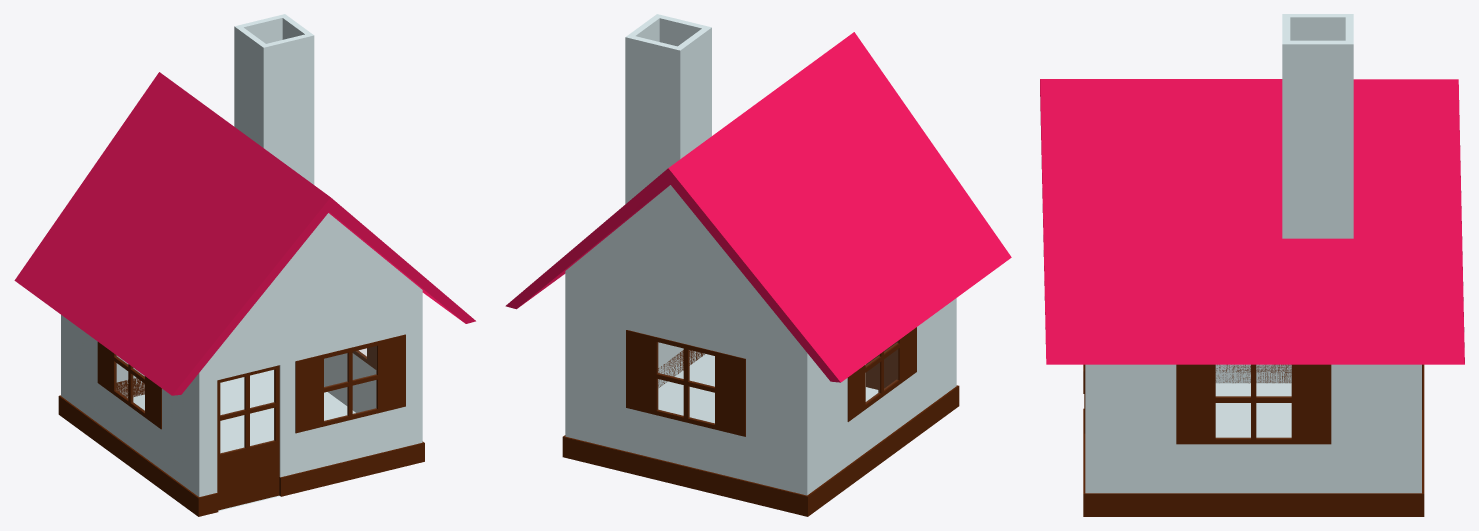
File: simpleHouse.fbx
The picture shows the model from 3 angles, left to right: view 1: azimuth 30°, elevation 25°; view 2: azimuth 150°, elevation 25°; view 3: azimuth 270°, elevation 25°; orthographic projection. The views are drawn at different scales.
Visible parts, largest first — view 1: House, Window, Glass; view 2: House, Window, Glass; view 3: House, Window, Glass.
Boxes of the visible parts, x1,y1,x2,y2 form: House: (14,14,475,516); Window: (97,334,405,510); Glass: (115,346,376,453); House: (505,14,1011,516); Window: (626,327,916,436); Glass: (658,342,897,423); House: (1040,14,1464,516); Window: (1084,364,1422,444); Glass: (1216,365,1290,437).
Size of the model in its own units: 2575 by 3061 by 2587.
